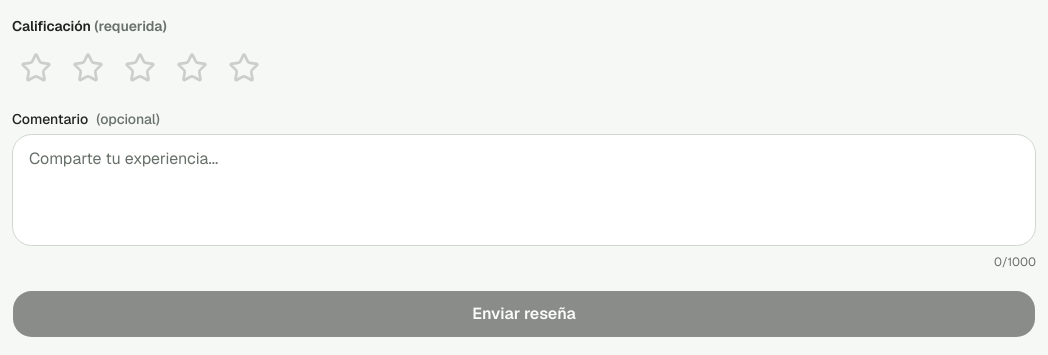
Scenario: reviews form system › announces success and moves focus to the confirmation
Click the button named "5 estrellas" at (244, 68), box [220,44,268,92]
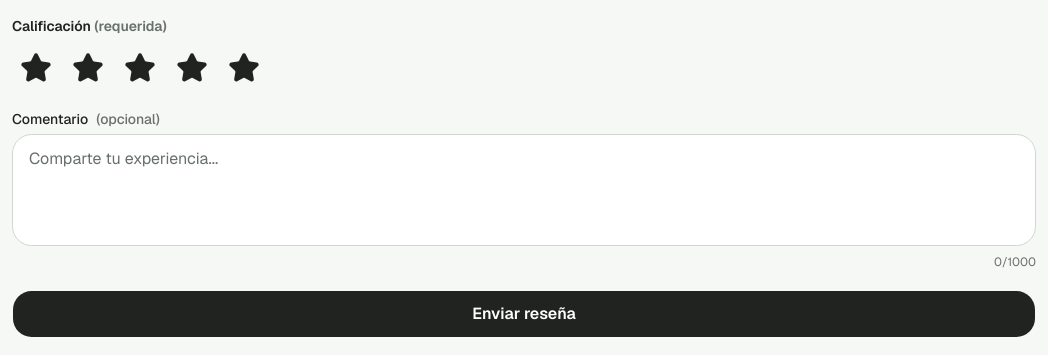
Submit the form
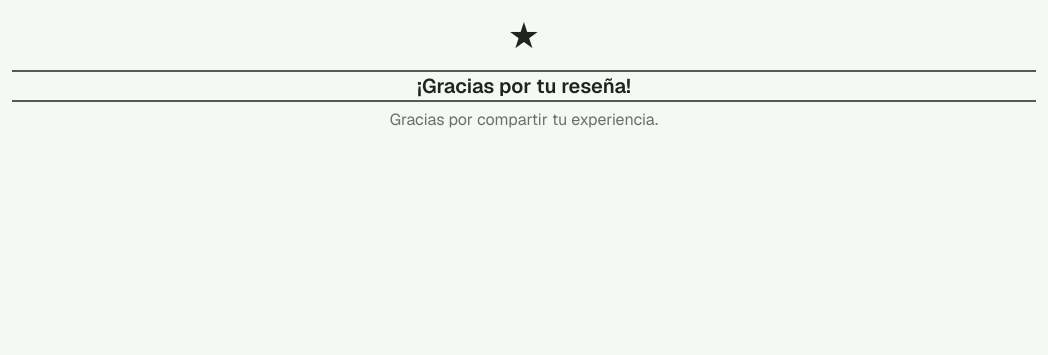
Now the heading "¡Gracias por tu reseña!" is shown, box [12,72,1036,100]
